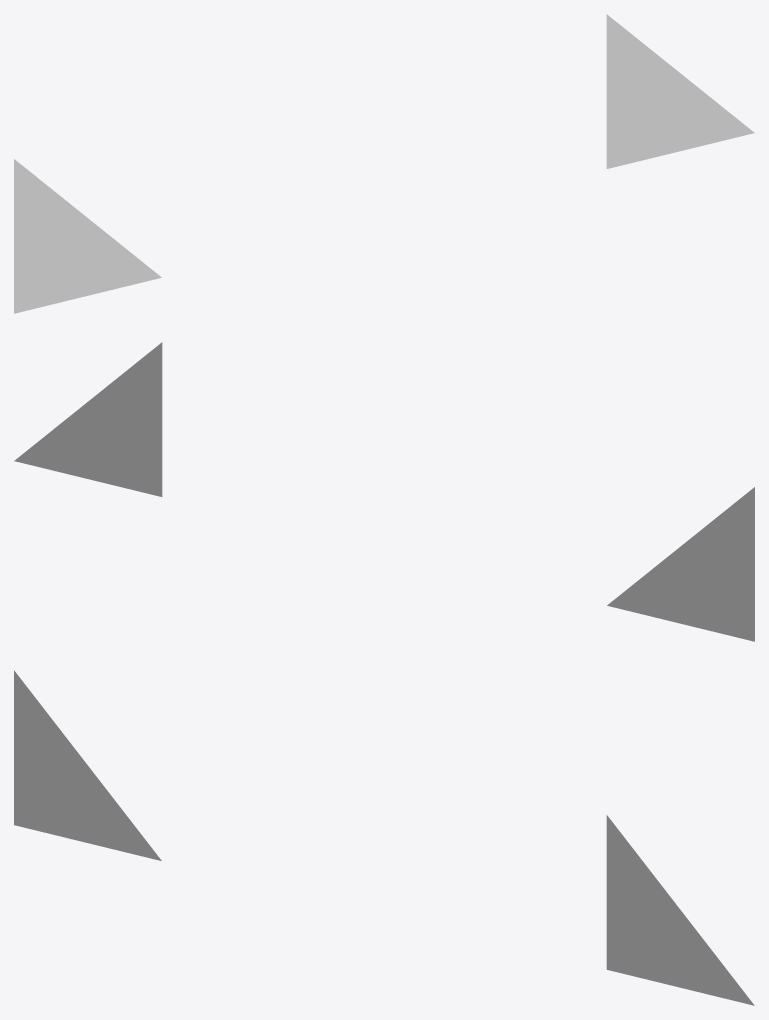
Rendered from normal_mapped.fbx.
The picture shows the model from 3 angles, top to bottom: view 1: azimuth 30°, elevation 25°; view 2: azimuth 150°, elevation 25°; view 3: azimuth 330°, elevation 25°; orthographic projection.
Visible parts, largest first — view 1: Right, Left; view 2: Right, Left; view 3: Right, Left.
Part boxes in pixels (x1,y1,x2,y2): Right: (606, 14, 754, 168); Left: (14, 159, 161, 313); Right: (14, 342, 162, 496); Left: (607, 487, 754, 641); Right: (606, 815, 754, 1005); Left: (14, 670, 161, 860).
Size of the model in its own units: 5 by 1 by 0.
1 material, 1 textured.
